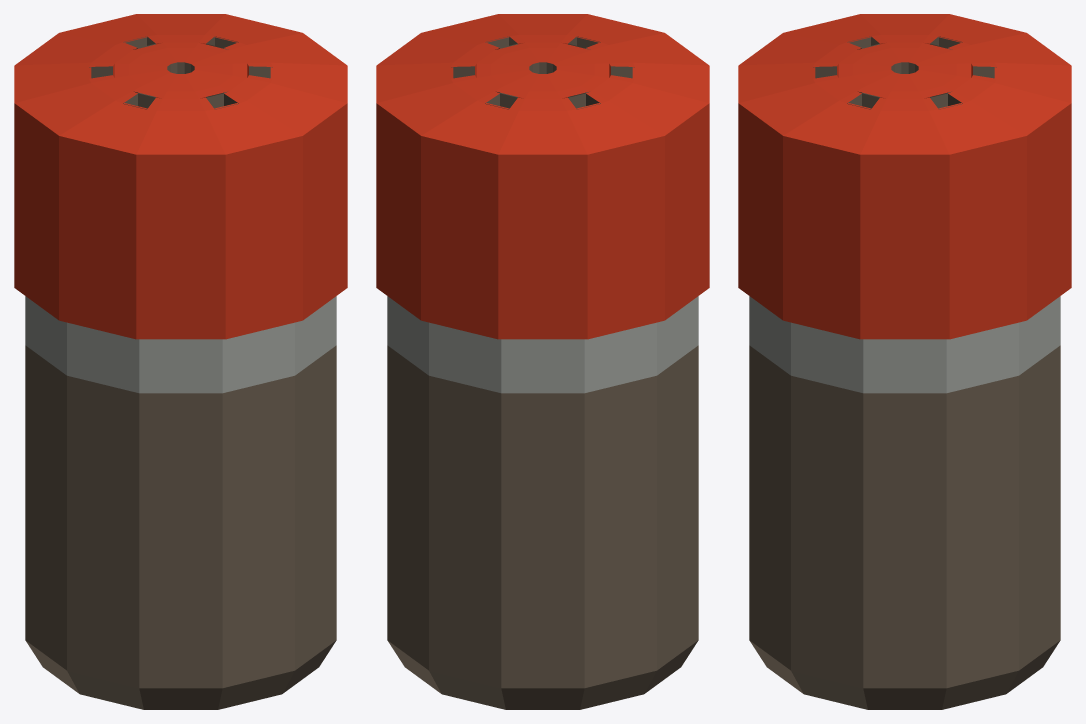
File: SM_Cook_PepperShaker_01.glb
The picture shows the model from 3 angles, left to right: view 1: azimuth 30°, elevation 25°; view 2: azimuth 150°, elevation 25°; view 3: azimuth 270°, elevation 25°; orthographic projection.
Parts seen in each view (by area): view 1: SM_Cook_PepperShaker_01; view 2: SM_Cook_PepperShaker_01; view 3: SM_Cook_PepperShaker_01.
Boxes of the visible parts, box(x1,y1,x2,y2) form: SM_Cook_PepperShaker_01: box(14, 14, 347, 709); SM_Cook_PepperShaker_01: box(376, 14, 709, 709); SM_Cook_PepperShaker_01: box(738, 14, 1071, 709).
Bounding box in the file's own units: 0.0466 × 0.09 × 0.0466.
1 material, 1 textured.
